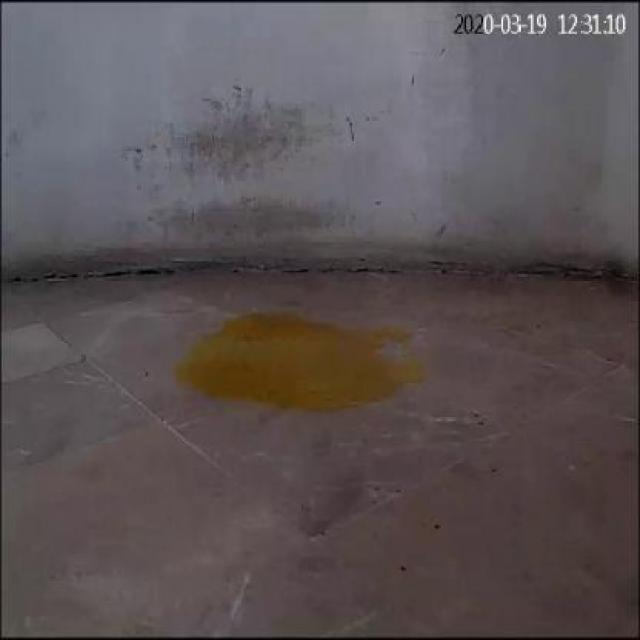spill: (176, 314, 418, 414)
